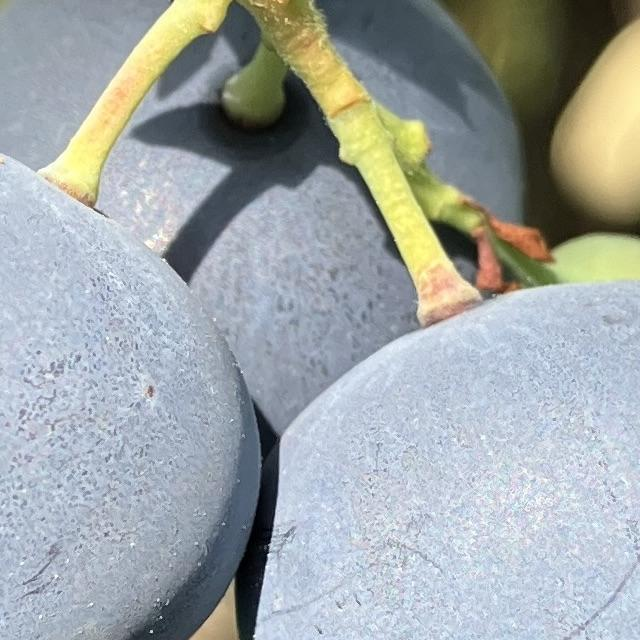Blueberries: (241, 269, 640, 640), (0, 120, 259, 640)
